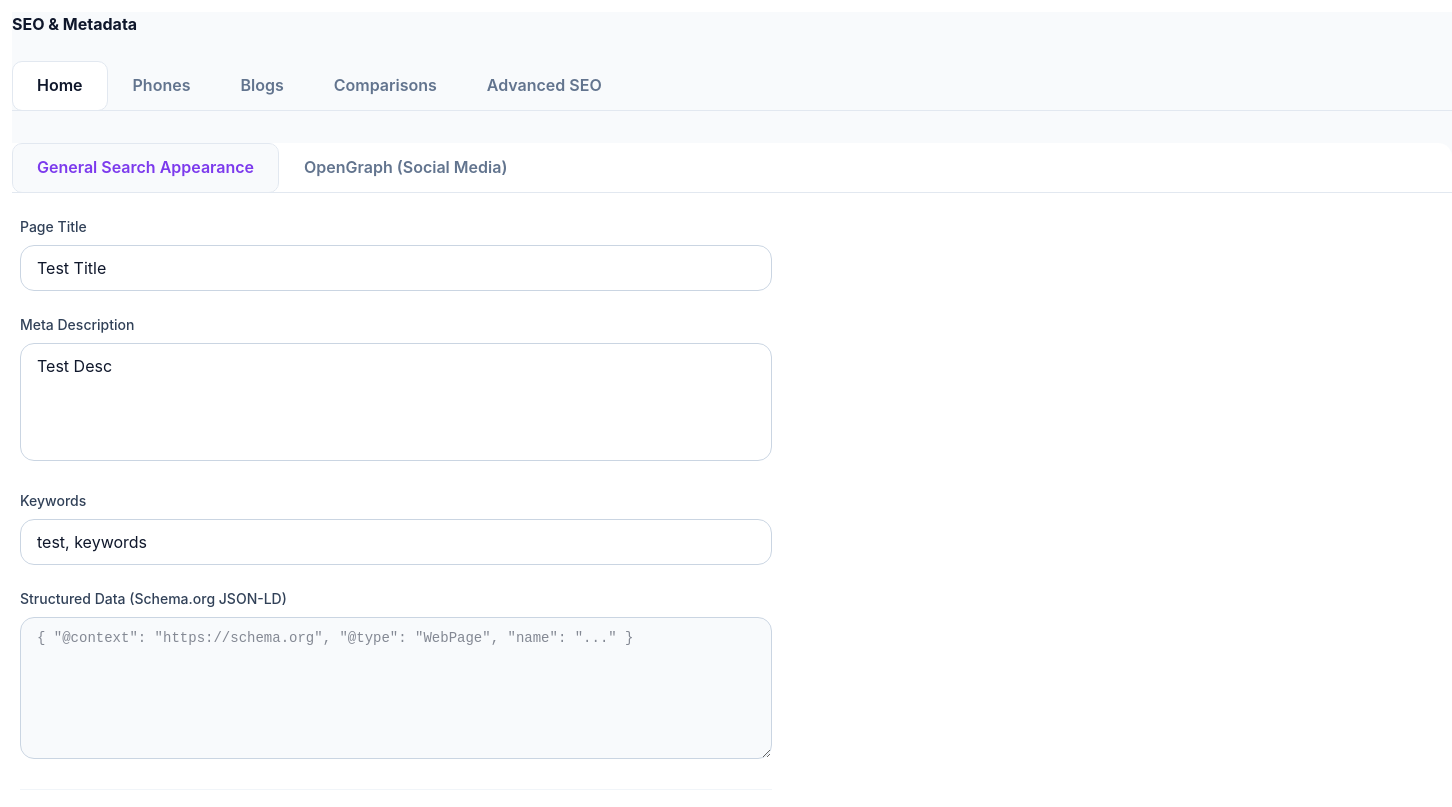
Test: SeoMetadataForm Component › switches to the Advanced SEO tab and displays Sitemap and Robots.txt fields
Click the button "Advanced SEO": (544, 85) [462,61,627,110]
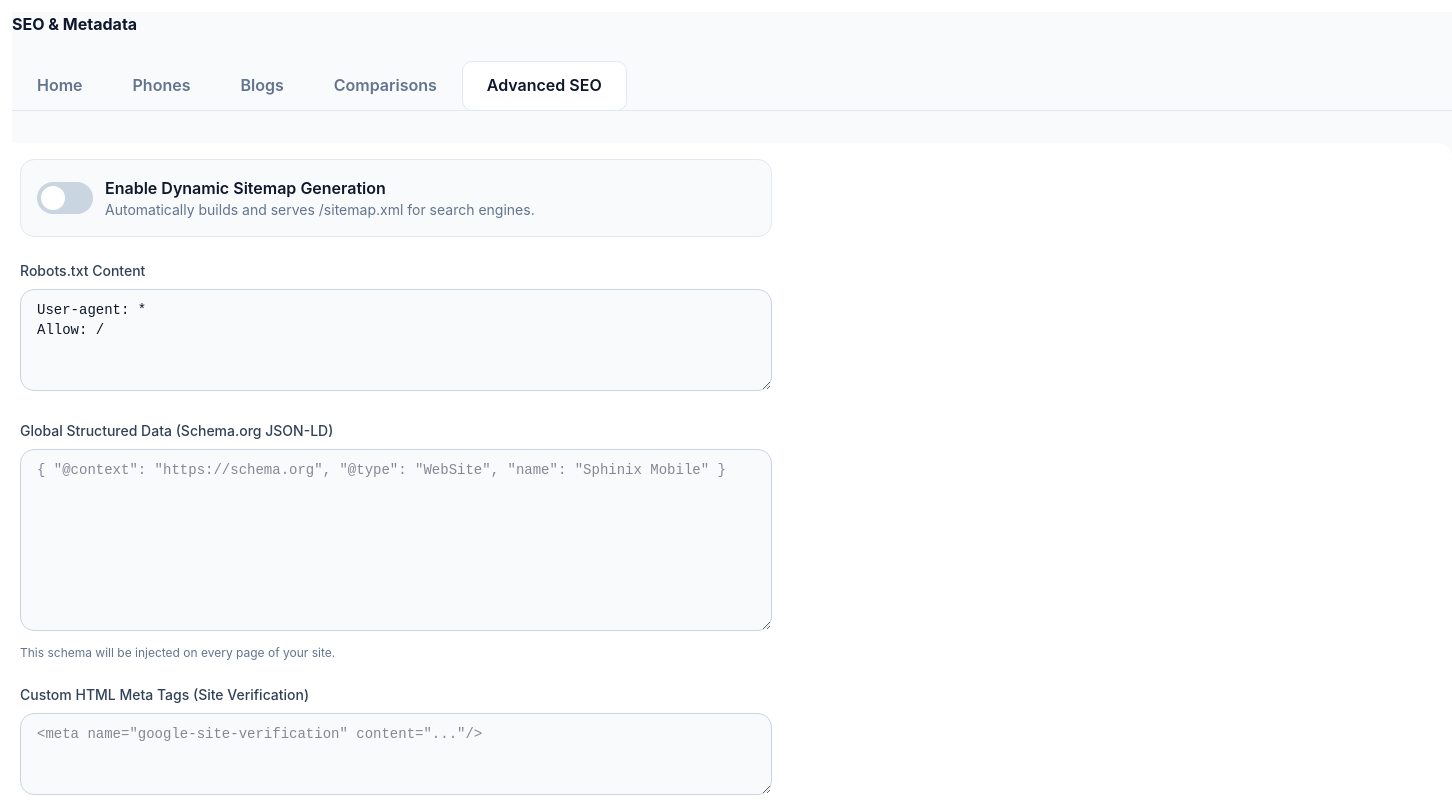
Check: the text "Enable Dynamic Sitemap Generation" is shown, box [105,178,386,198]
Check: the text box with placeholder "User-agent: * Allow: /" is shown, box [20,289,772,391]
Check: the 2nd text box is shown, box [20,449,772,631]
